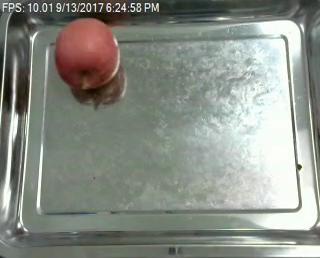Apple: (52, 12, 121, 97)
